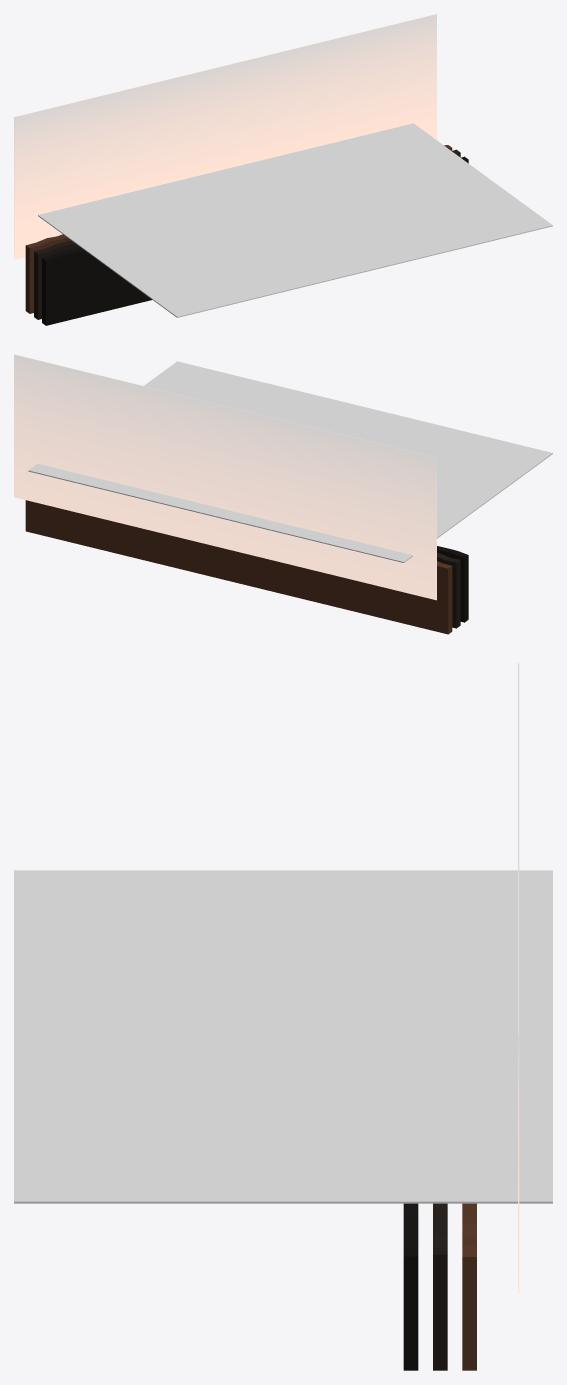
File: campfire.glb
3 views of the same model, one above another, from view 1: azimuth 30°, elevation 25°; view 2: azimuth 150°, elevation 25°; view 3: azimuth 270°, elevation 25° (orthographic). The views are drawn at different scales.
Parts seen in each view (by area): view 1: Ground contact / transparent shadow receiver, Sky gradient / editable material, World / terrain and architecture; view 2: Sky gradient / editable material, Ground contact / transparent shadow receiver, World / terrain and architecture; view 3: Ground contact / transparent shadow receiver, World / terrain and architecture, Sky gradient / editable material.
Boxes of the visible parts, x1,y1,x2,y2 form: Ground contact / transparent shadow receiver: [38, 123, 552, 317]; Sky gradient / editable material: [14, 14, 436, 259]; World / terrain and architecture: [25, 145, 468, 325]; Sky gradient / editable material: [14, 354, 436, 600]; Ground contact / transparent shadow receiver: [28, 361, 552, 562]; World / terrain and architecture: [25, 500, 468, 634]; Ground contact / transparent shadow receiver: [14, 870, 552, 1203]; World / terrain and architecture: [403, 1203, 476, 1370]; Sky gradient / editable material: [518, 663, 519, 1293].
Bounding box in the file's own units: 180 × 75.4 × 110.
